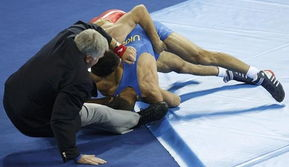fall: (0, 20, 136, 147)
